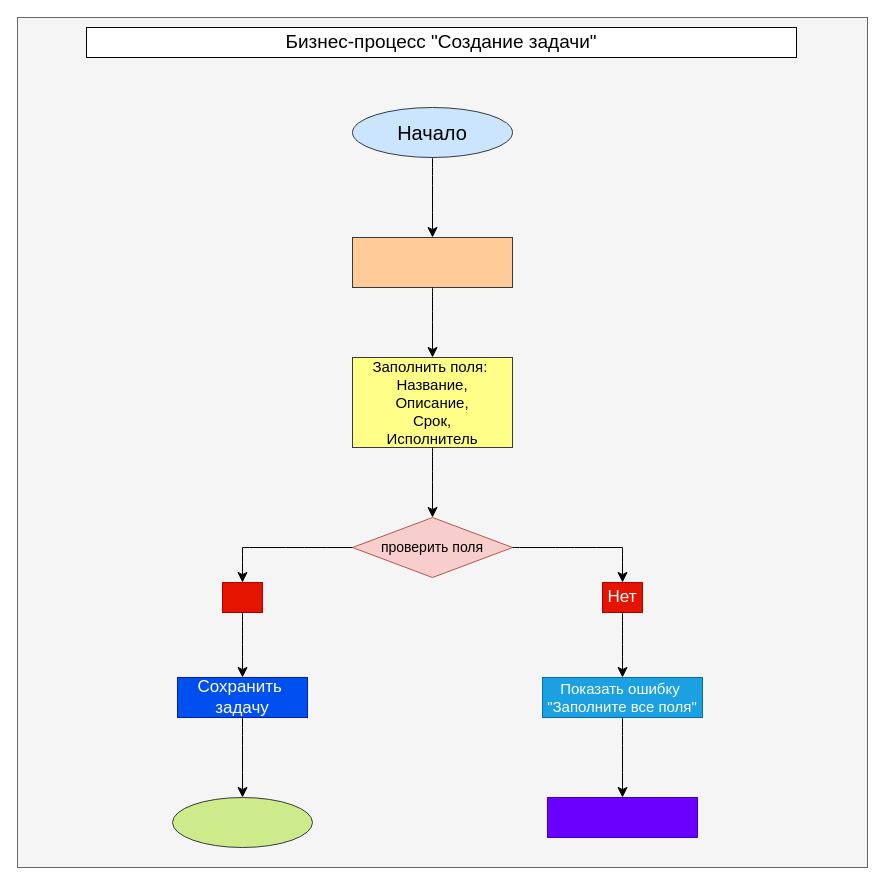
Some shapes in this 885 by 885 pixel diagram are drawn without their labels. The centre of each missing label's shape, as x and y in pixels:
Возврат к шагу "Заполнить поля": pixel 622 817
Да: pixel 242 597
Конец: pixel 242 822
Нажать "новая задача": pixel 432 262
